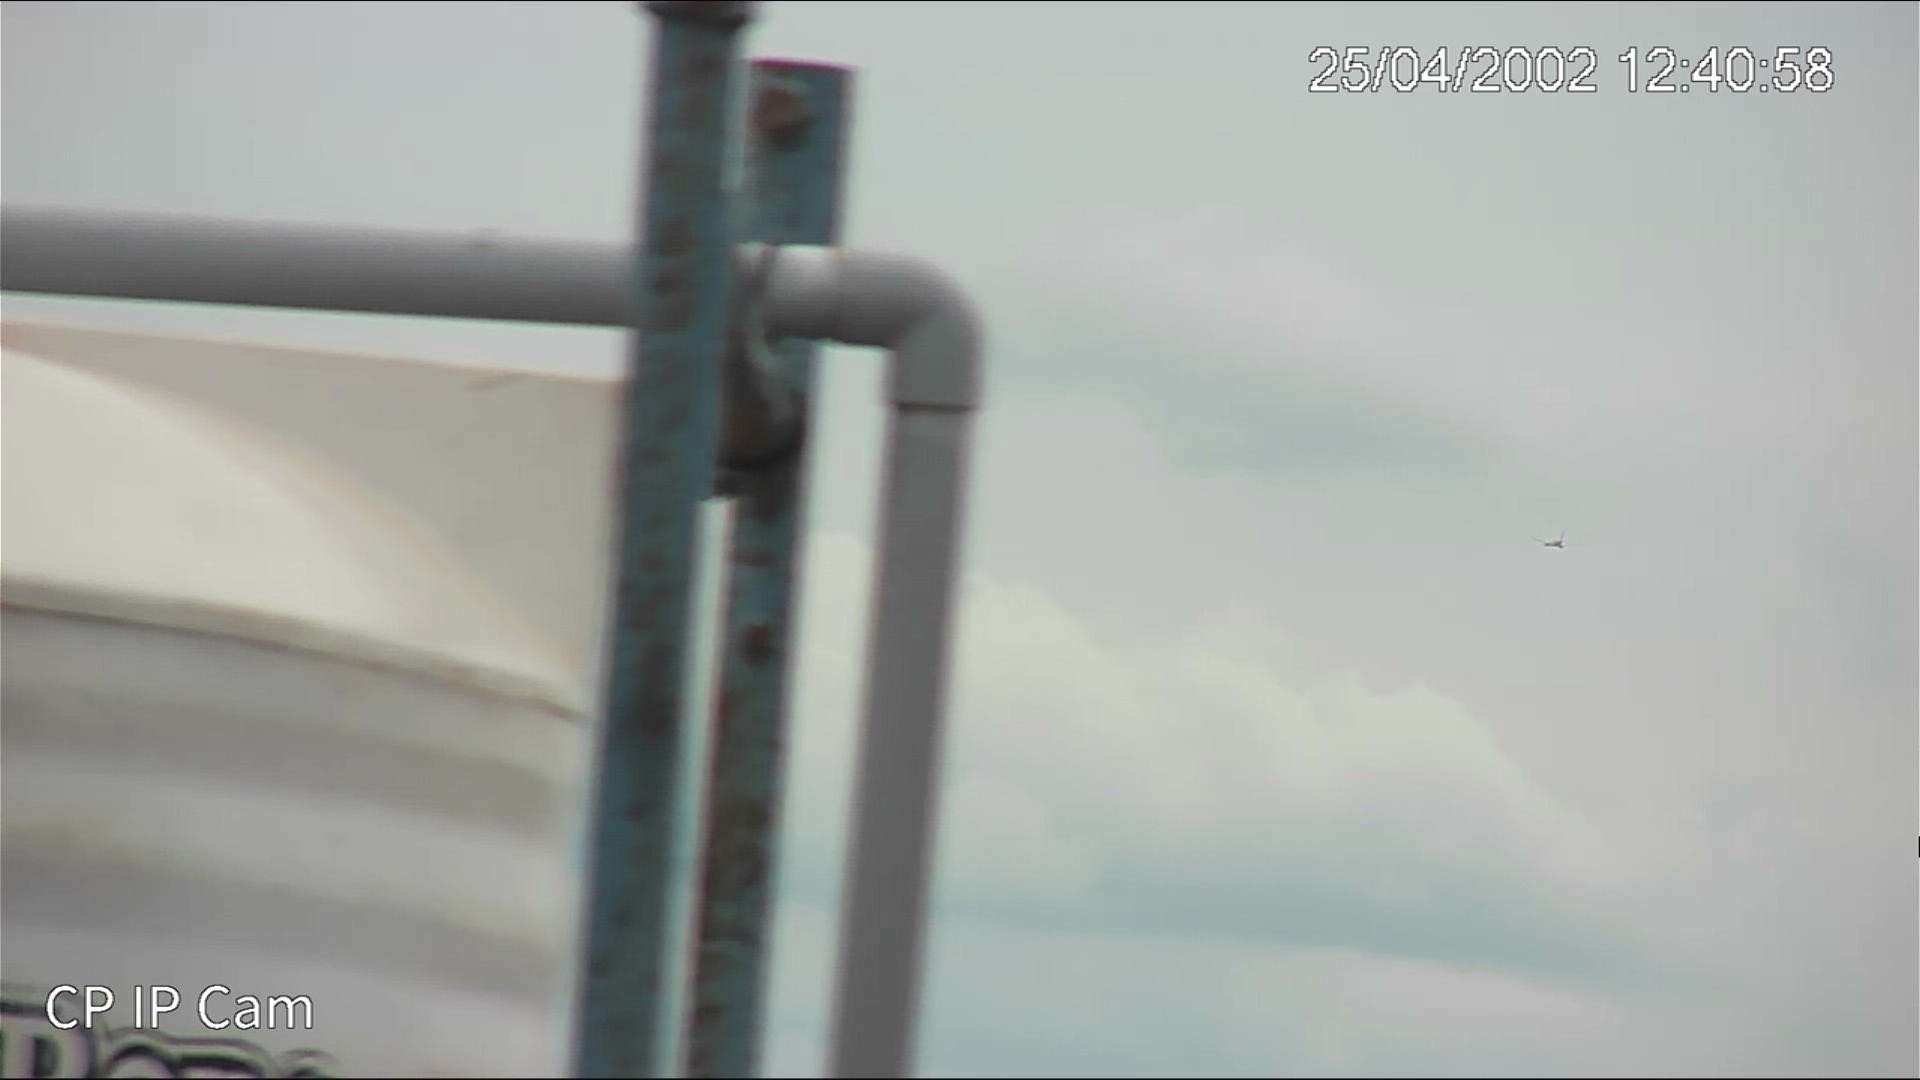SU_30: (1542, 535, 1569, 553)
